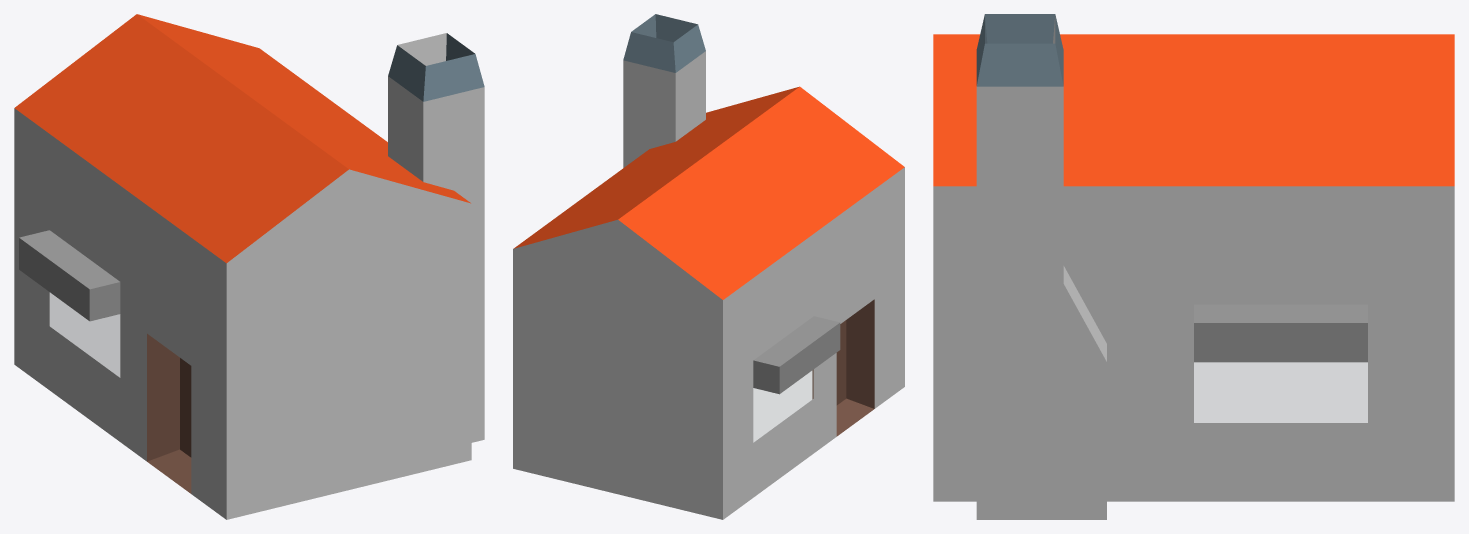
File: lopoly-simple-house.glb
3 renders of one model, left to right at view 1: azimuth 30°, elevation 25°; view 2: azimuth 150°, elevation 25°; view 3: azimuth 270°, elevation 25°, orthographic. The views are drawn at different scales.
Visible parts, largest first — view 1: group1853867903, group2030239462, group597858414; view 2: group1853867903, group2030239462, group597858414; view 3: group1853867903, group2030239462, group597858414.
Part boxes in pixels (left/top/right/bottom): group1853867903: left=14, top=14, right=471, bottom=519; group2030239462: left=388, top=33, right=484, bottom=442; group597858414: left=19, top=230, right=120, bottom=321; group1853867903: left=513, top=86, right=904, bottom=519; group2030239462: left=623, top=14, right=705, bottom=167; group597858414: left=753, top=316, right=840, bottom=394; group1853867903: left=933, top=34, right=1454, bottom=501; group2030239462: left=976, top=14, right=1106, bottom=519; group597858414: left=1194, top=304, right=1367, bottom=362.
Bounding box in the file's own units: 0.1 × 0.12 × 0.12.
